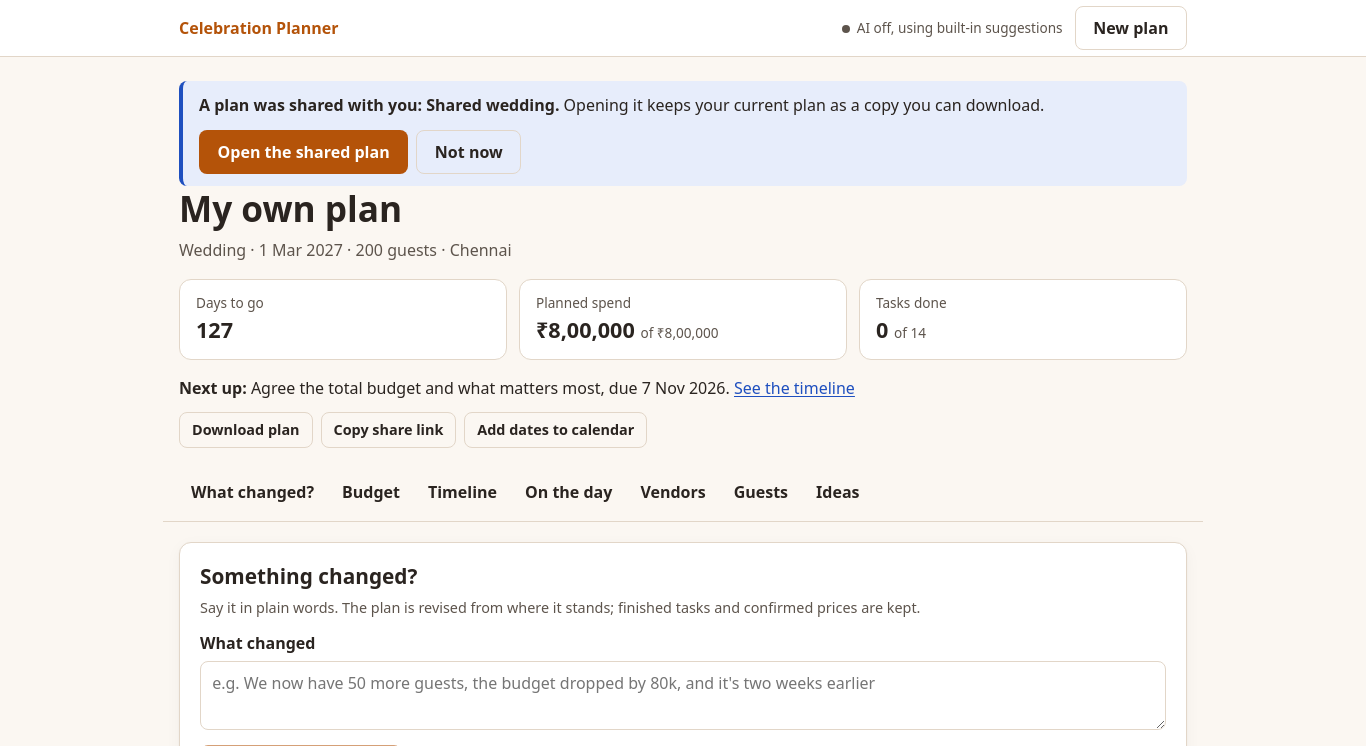
Test: a shared plan link › can be turned down, leaving everything as it was
The image size is (1366, 746).
Click the button "Not now": (469, 152) [416,130,521,174]
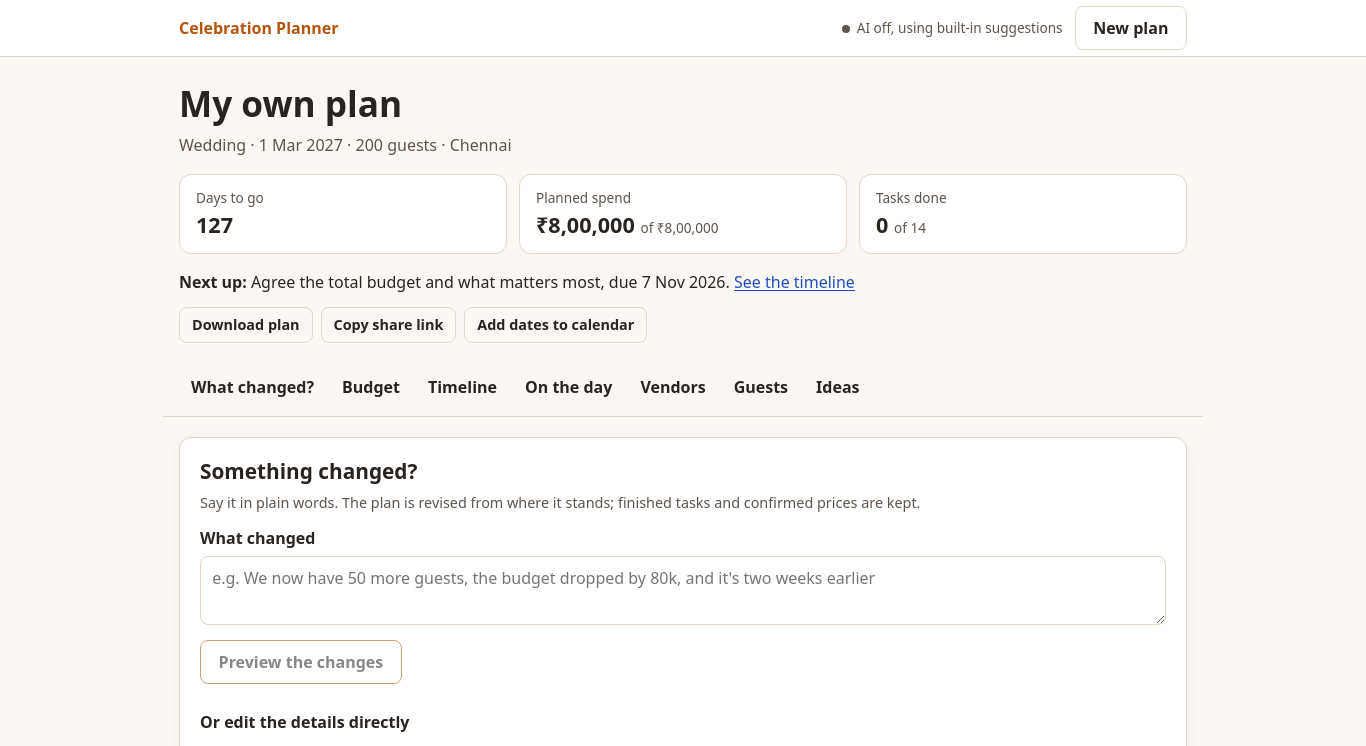
expect the heading "My own plan" is shown: met, box [179,79,402,127]
expect the text "was shared with you" is gone: met
